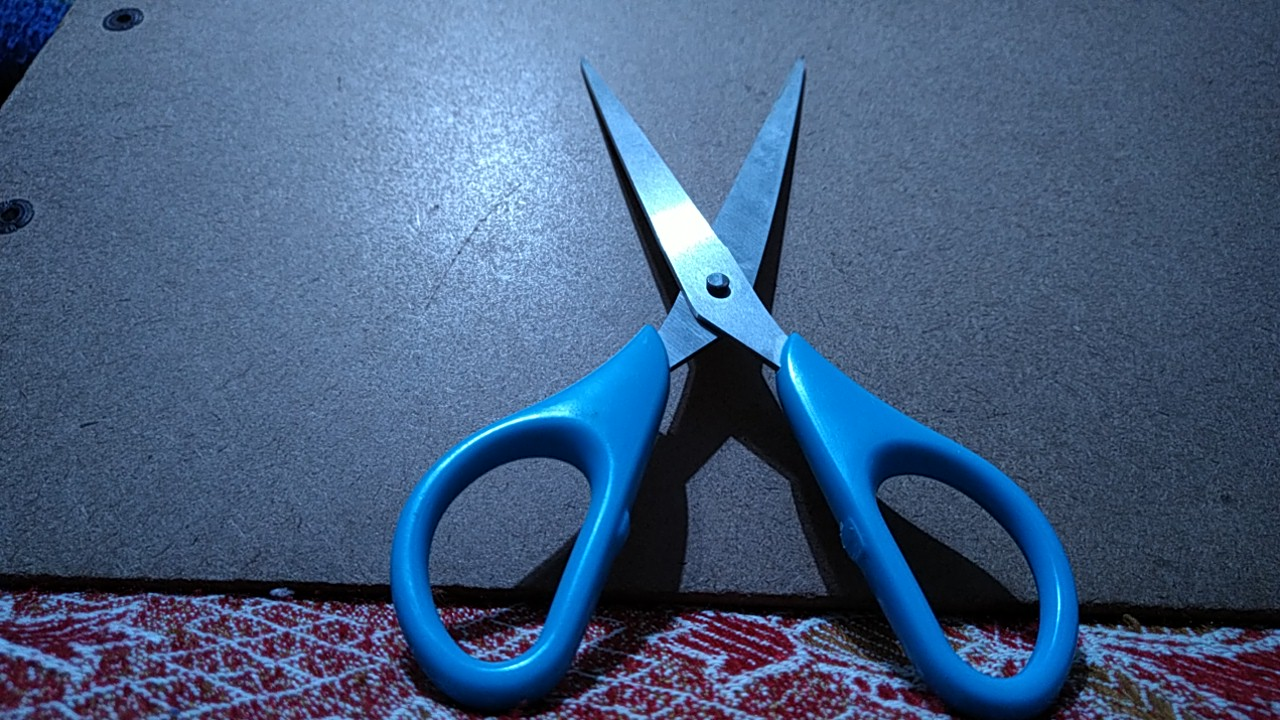scissor: (372, 43, 1088, 720)
